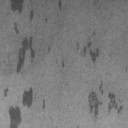red iron: (88, 80, 123, 122), (8, 88, 33, 128), (16, 36, 35, 74), (76, 42, 100, 64), (11, 0, 34, 20), (14, 22, 19, 34), (58, 0, 62, 10), (4, 88, 8, 97), (42, 100, 46, 109), (62, 60, 65, 68)
